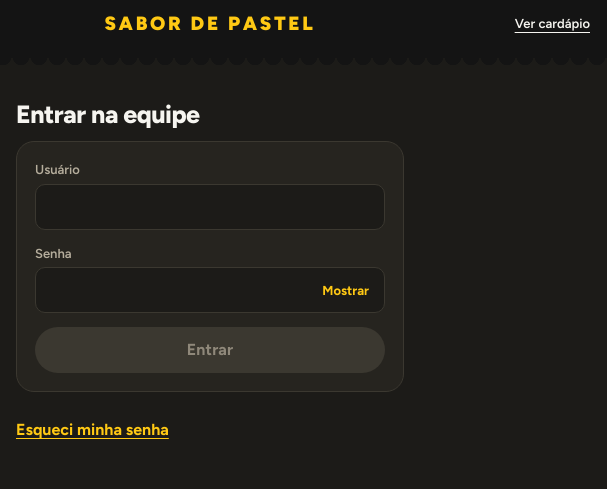
Test: senha errada mostra a mensagem e continua no login
Step 1. Type "joao" into the field labelled "Usuário" → point(210, 207), box 35,184 -> 385,230
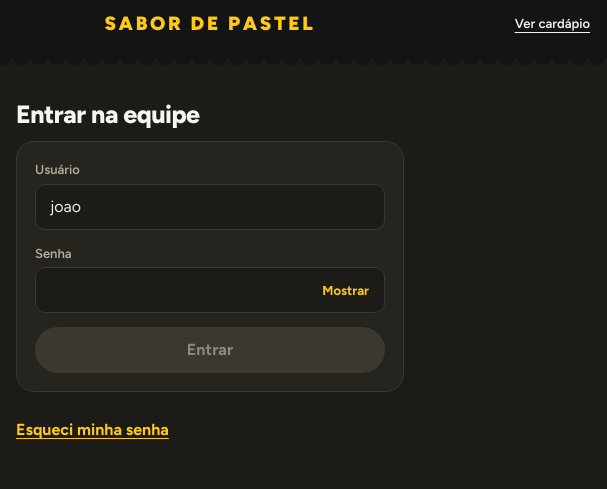
Step 2. Type "x" into the password field labelled "Senha" → point(210, 290), box 35,267 -> 385,313
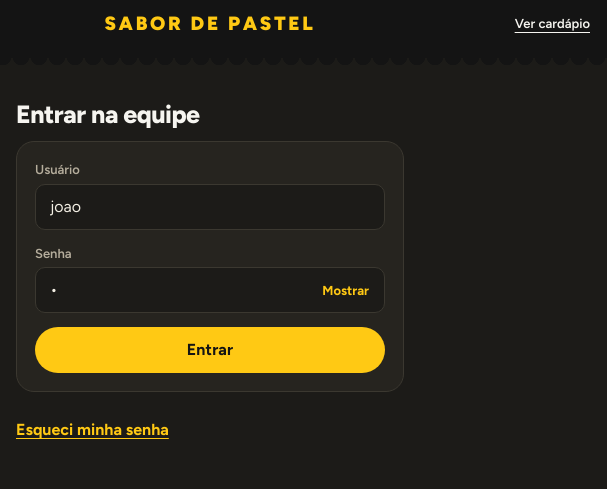
Step 3. Click the button "Entrar" → point(210, 350), box 35,327 -> 385,373
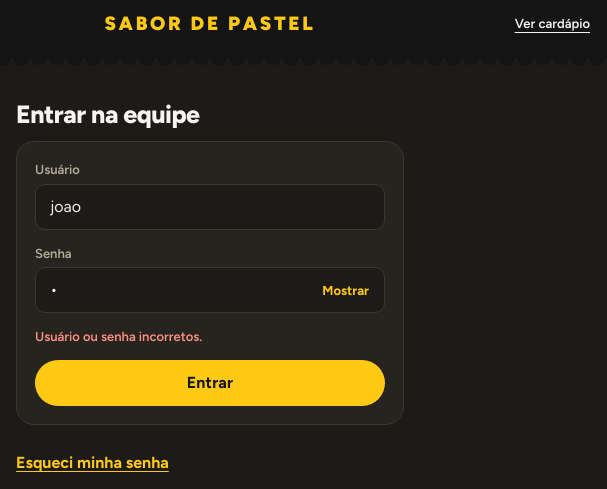
Expected: the text "Usuário ou senha incorretos." is shown, 35,329 -> 202,344
